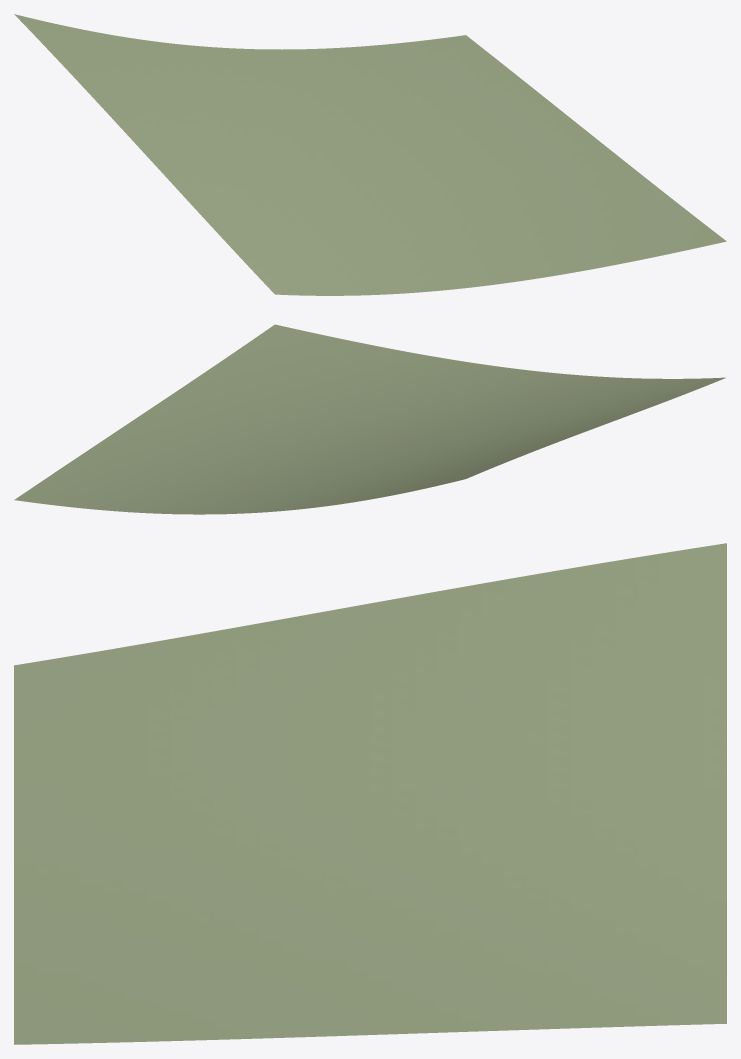
Rendered from expanse-30-27.glb.
3 renders of one model, top to bottom at view 1: azimuth 30°, elevation 25°; view 2: azimuth 150°, elevation 25°; view 3: azimuth 270°, elevation 25°, orthographic. The views are drawn at different scales.
Visible parts, largest first — view 1: expanse-30-27; view 2: expanse-30-27; view 3: expanse-30-27.
Part boxes in pixels (x1,y1,x2,y2): expanse-30-27: [14, 14, 726, 295]; expanse-30-27: [14, 324, 725, 514]; expanse-30-27: [14, 543, 726, 1044].
Bounding box in the file's own units: 256 × 79.38 × 256.
